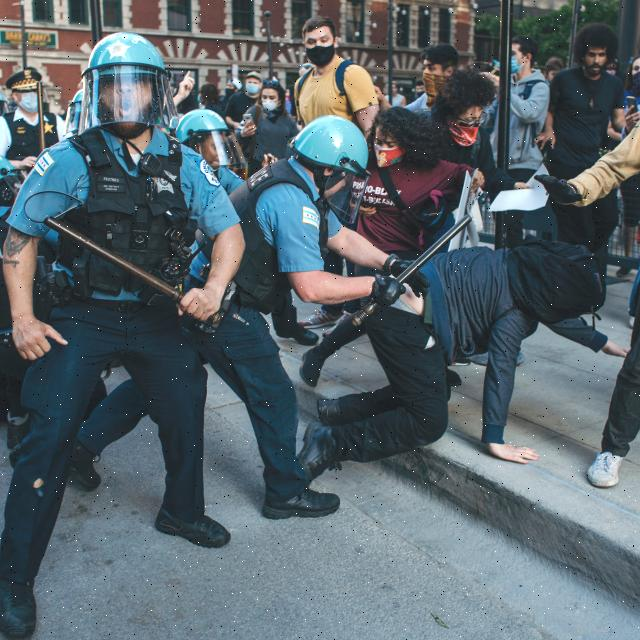police: (12, 23, 217, 640), (212, 85, 419, 566)
